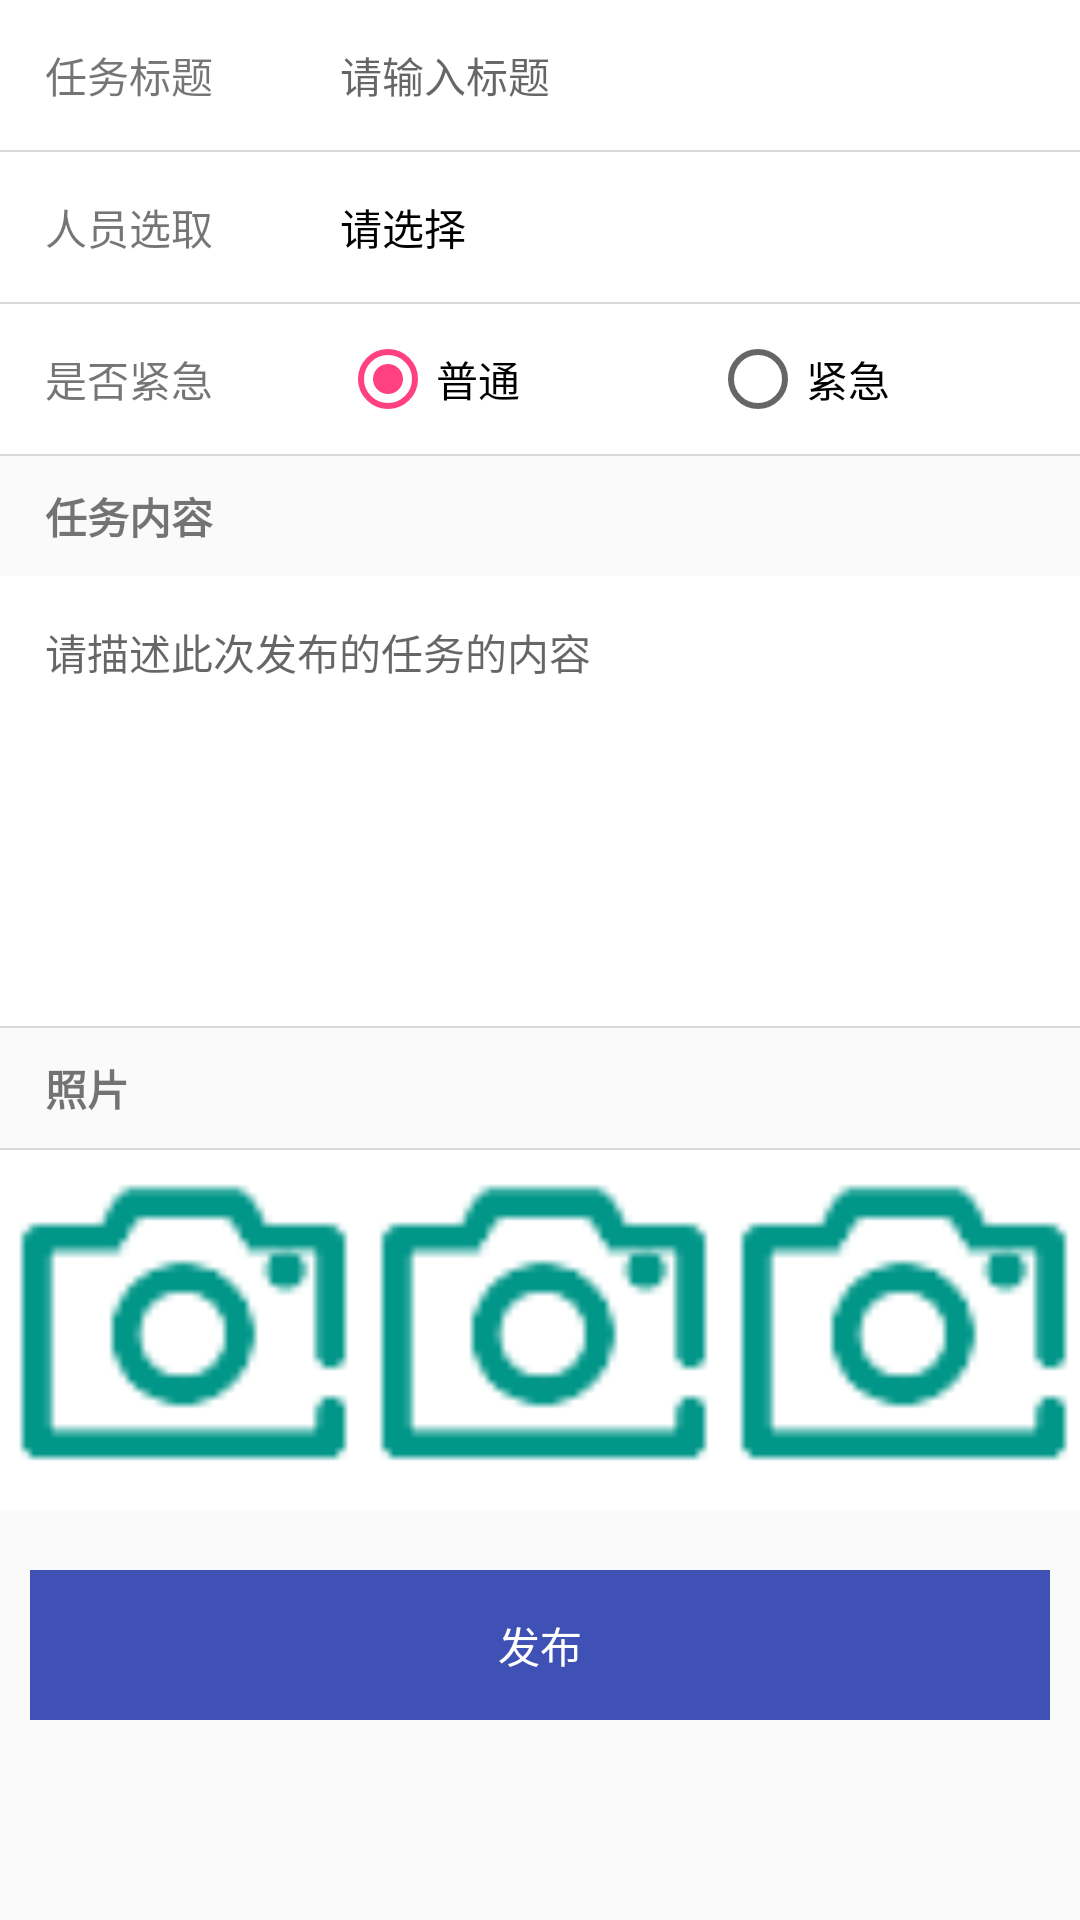

Point at icon controls on the screen. Image size 1080 × 1920, points as (x=x, y=y).
take camera: (x=183, y=1323), (x=543, y=1323), (x=903, y=1323)
